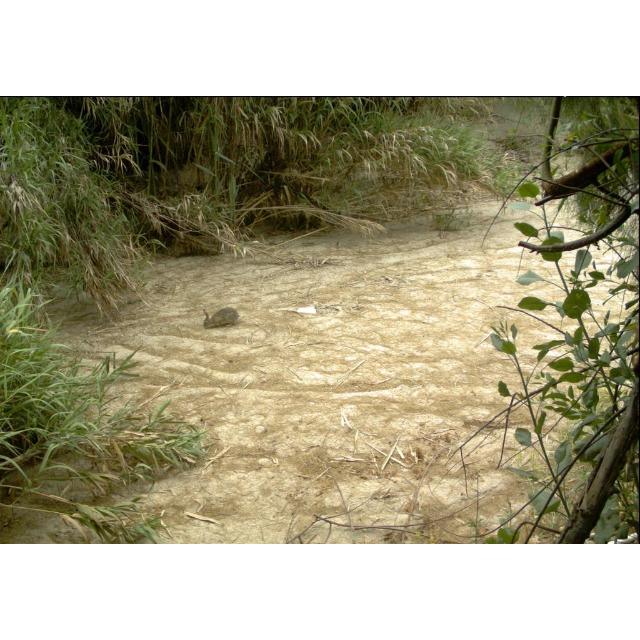animals: (202, 304, 242, 332)
